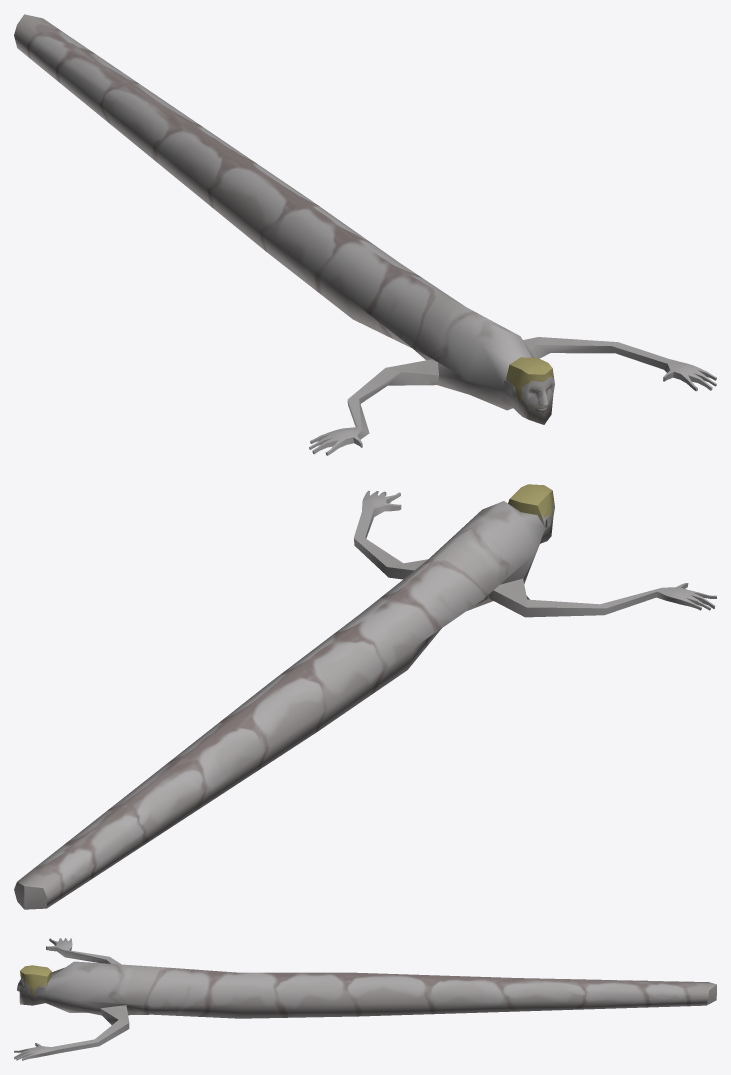
Rendered from Sloth_Idle.fbx.
3 renders of one model, top to bottom at view 1: azimuth 30°, elevation 25°; view 2: azimuth 150°, elevation 25°; view 3: azimuth 270°, elevation 25°, orthographic. The views are drawn at different scales.
Parts seen in each view (by area): view 1: Sloth; view 2: Sloth; view 3: Sloth.
Part boxes in pixels (x1,y1,x2,y2): Sloth: (14,14,716,455); Sloth: (14,484,716,909); Sloth: (14,938,716,1060).
Size of the model in its own units: 810 by 159 by 1959.
